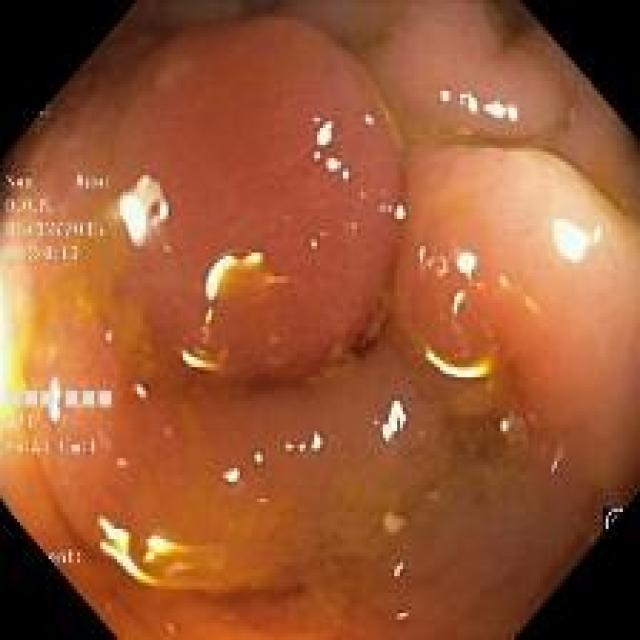Polyps: (118, 16, 400, 383), (396, 146, 640, 497)
